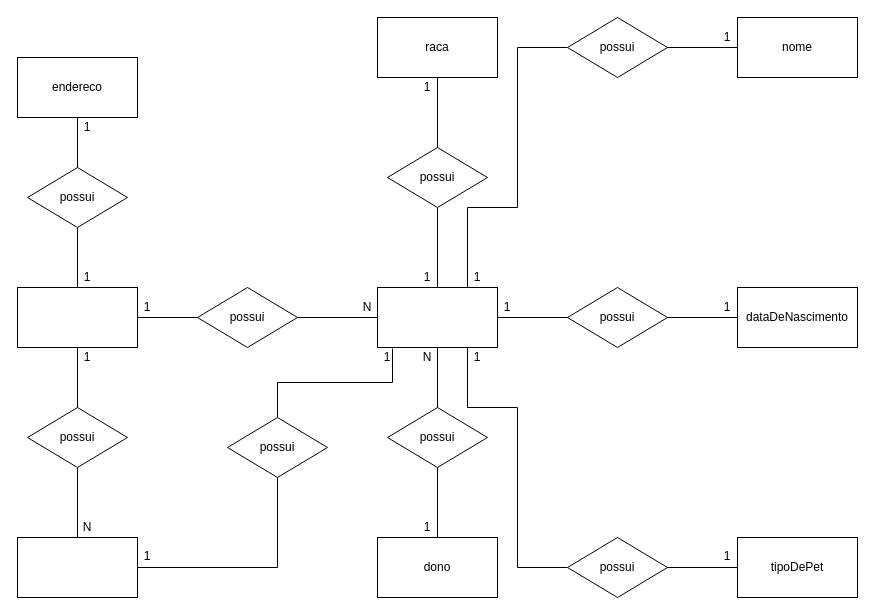
This 875x615 diagram has some shape labels left out. The centre of each missing label's shape, as x and y in pixels:
"clinica" goes at [77,317].
"pet" goes at [437,317].
"veterinario" goes at [77,567].
